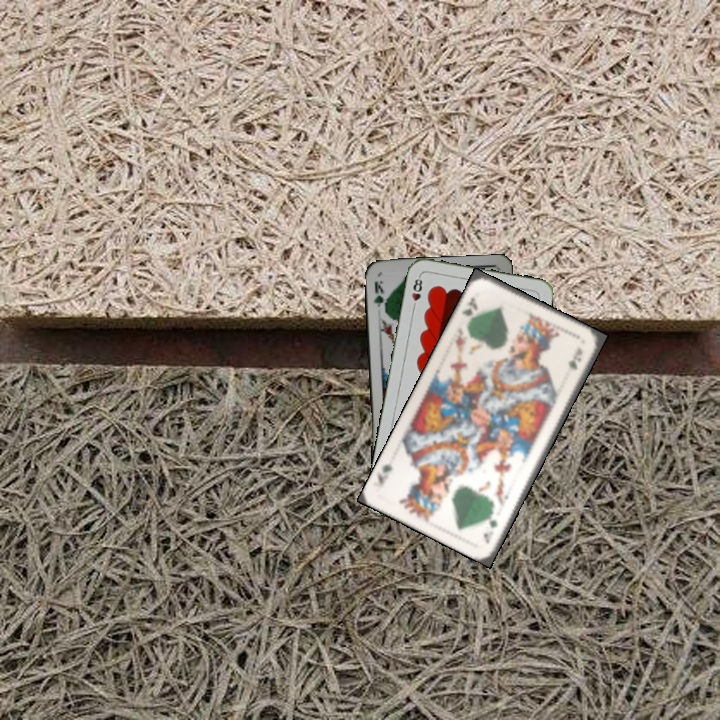GK: (370, 277, 388, 314), (479, 516, 500, 546), (457, 293, 480, 319)
H8: (408, 272, 425, 312)
